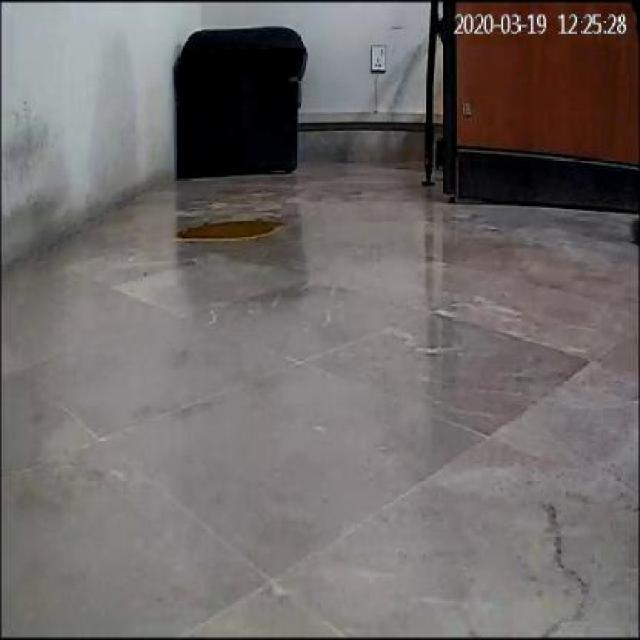spill: (178, 202, 294, 244)
